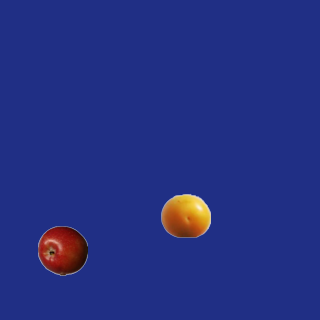Apple Braeburn: (37, 225, 87, 275)
Cherry Wax Yellow: (160, 190, 210, 240)
